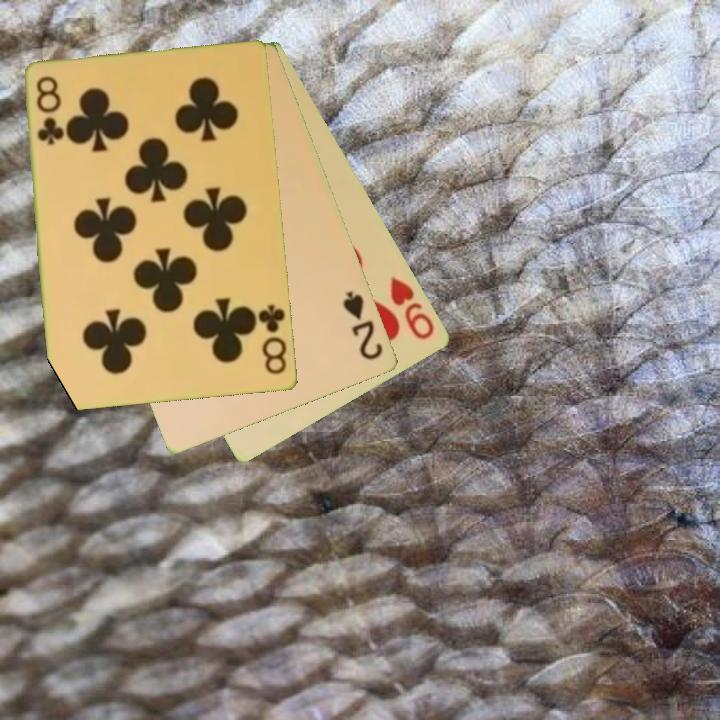2s: (339, 287, 387, 364)
8c: (255, 301, 290, 378), (33, 73, 65, 148)
9h: (387, 273, 438, 343)
